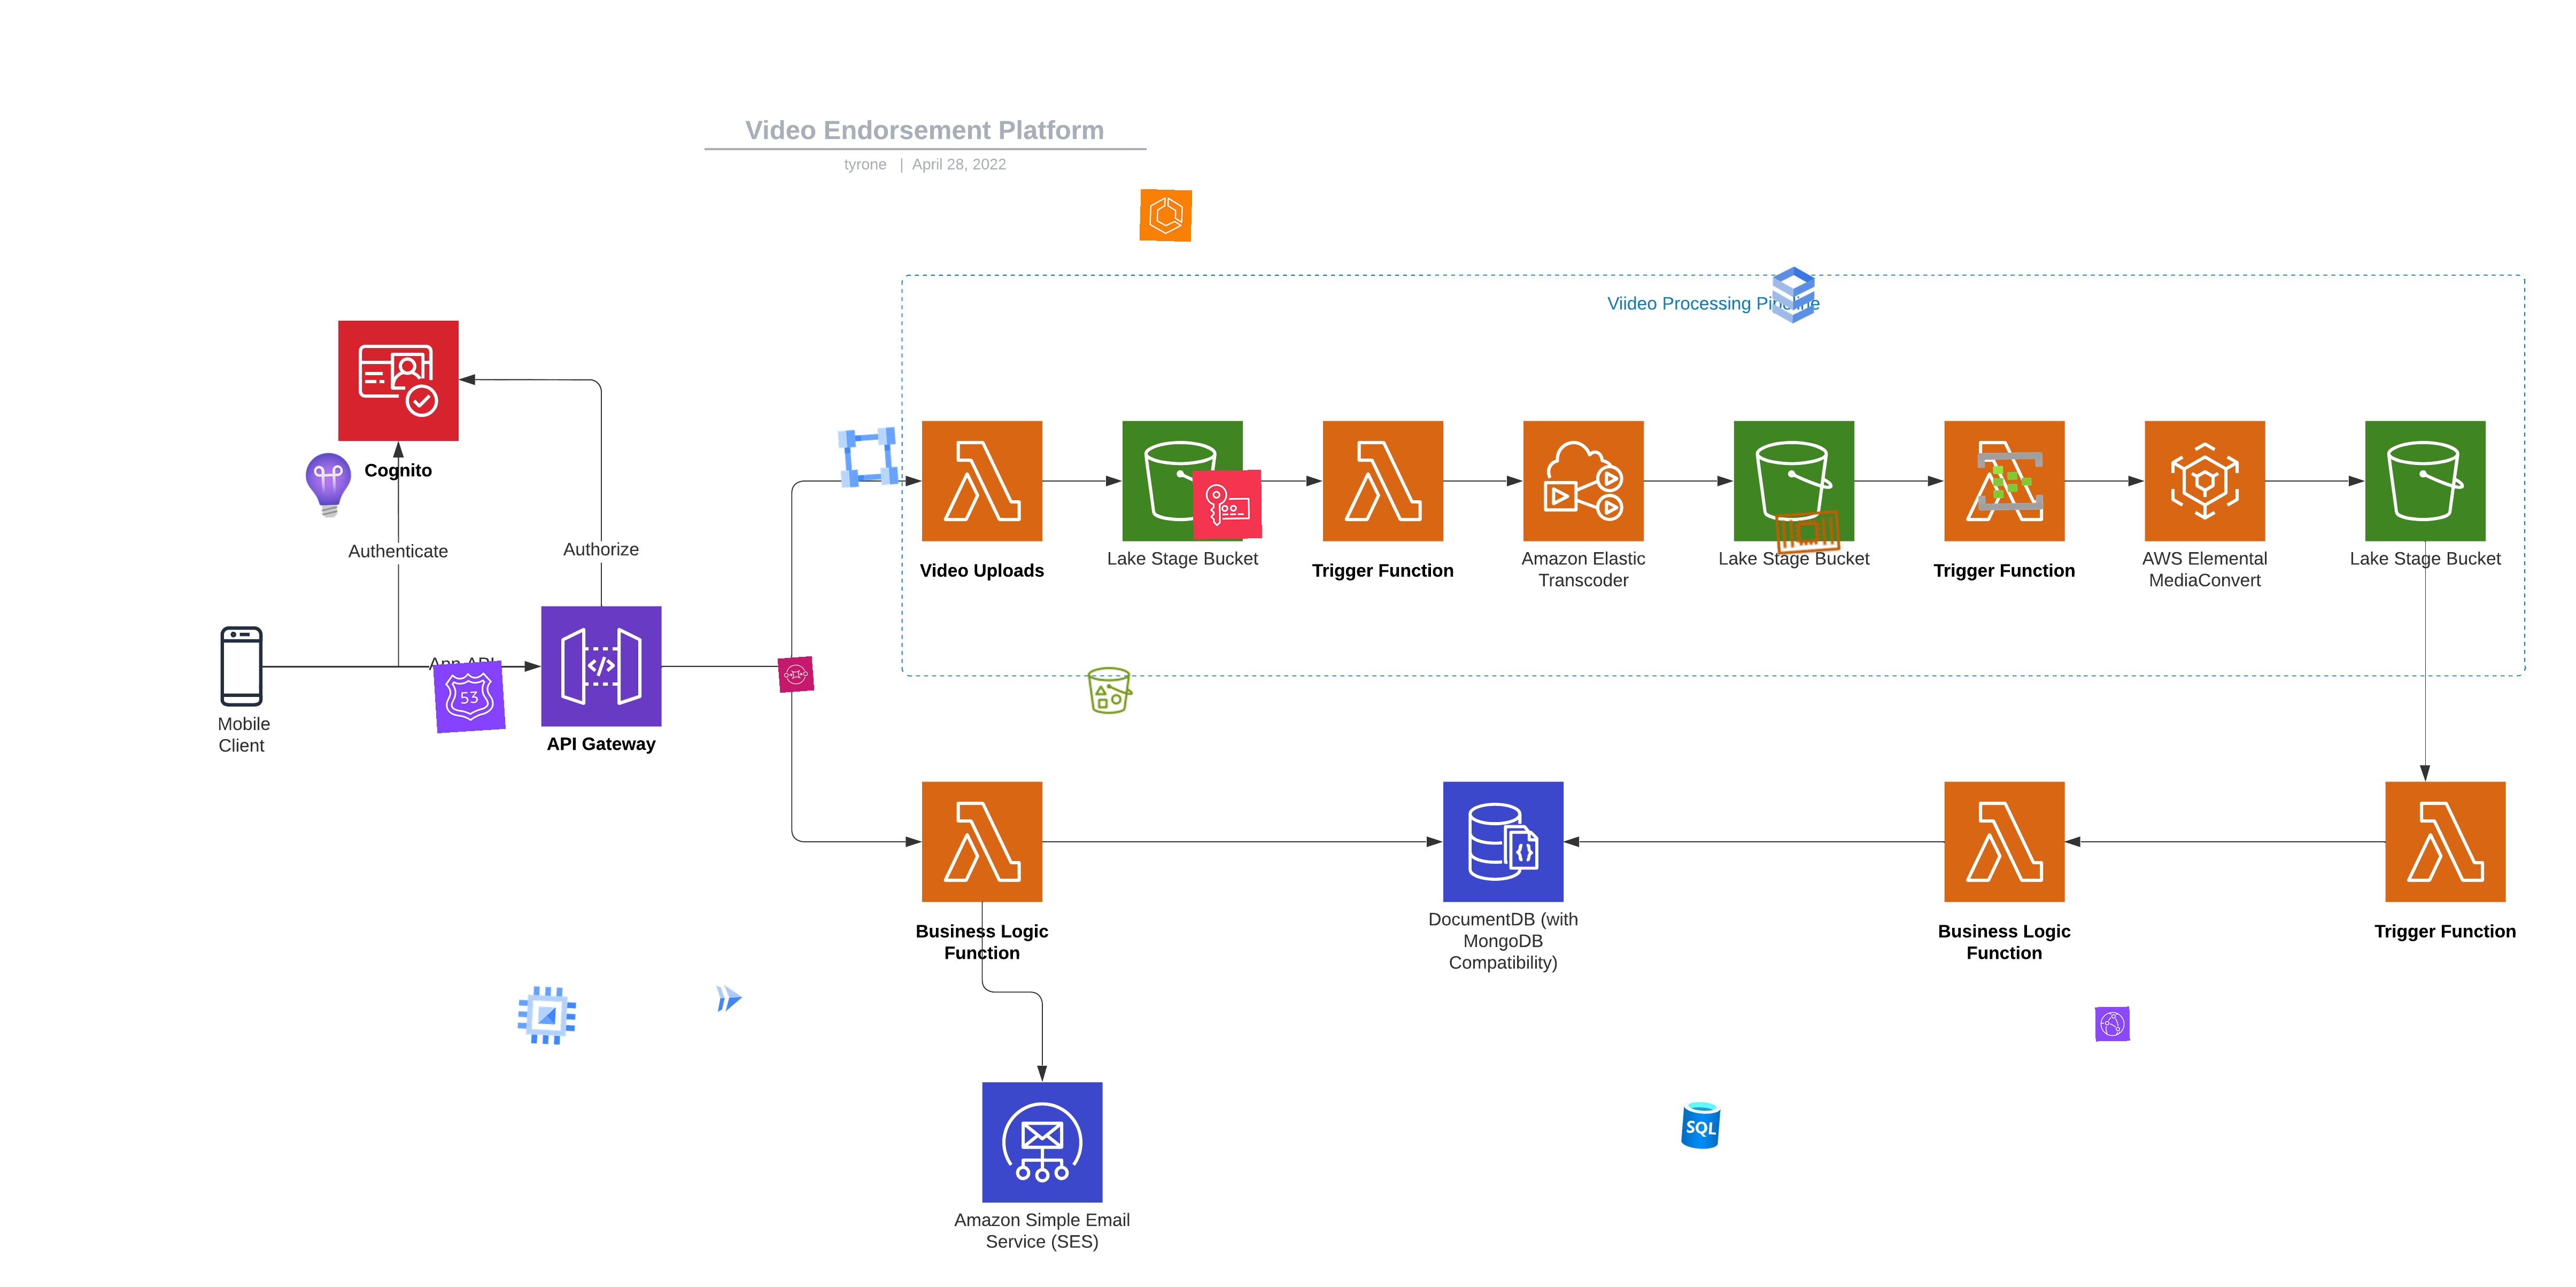aws_amazon_cloudfront: (2095, 1006, 2131, 1042)
aws_amazon_elastic_container_service: (1139, 189, 1193, 241)
aws_amazon_route_53: (434, 660, 506, 734)
aws_amazon_simple_queue_service: (777, 655, 815, 693)
aws_elastic_container_service_container_2: (1771, 496, 1845, 570)
aws_key_management_service: (1193, 469, 1262, 540)
aws_simple_storage_service_bucket_with_objects: (1084, 665, 1137, 717)
azure_application_insights: (292, 450, 365, 520)
azure_event_hubs: (1975, 447, 2045, 517)
azure_sql_database: (1672, 1097, 1728, 1152)
gcp_cloud_run: (711, 980, 748, 1016)
gcp_cloud_sql: (1758, 259, 1829, 330)
gcp_compute_engine: (511, 978, 583, 1052)
gcp_virtual_private_cloud: (831, 420, 905, 494)
